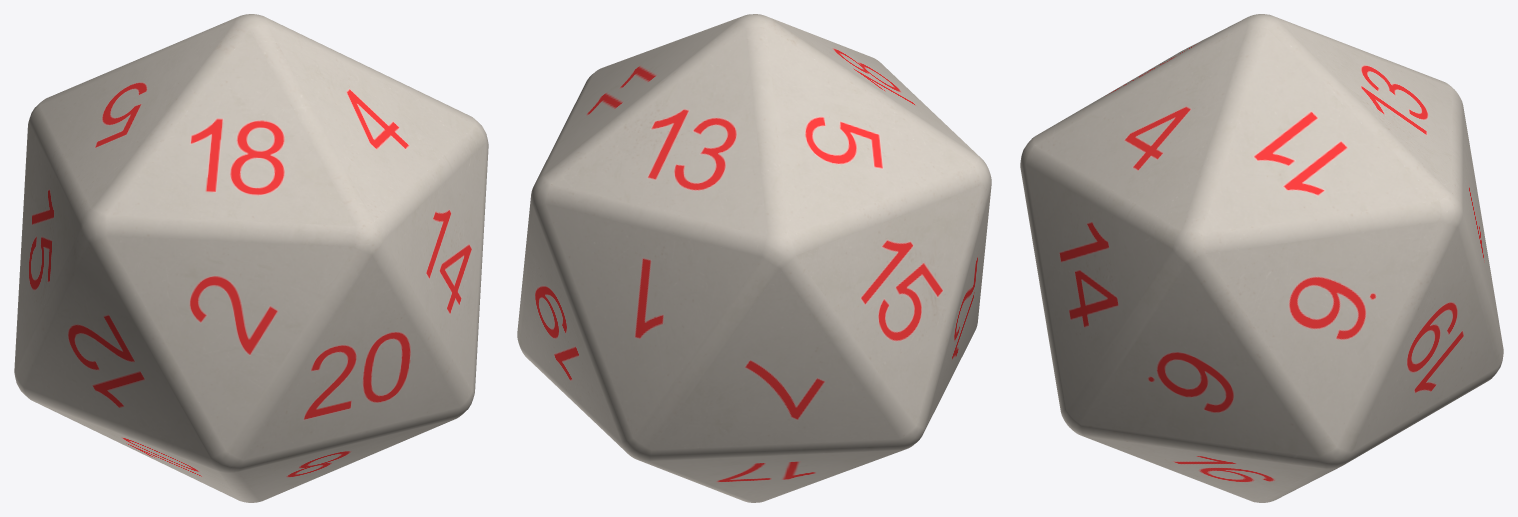
Rendered from d20-metal.gltf.
3 renders of one model, left to right at view 1: azimuth 30°, elevation 25°; view 2: azimuth 150°, elevation 25°; view 3: azimuth 270°, elevation 25°, orthographic.
Parts seen in each view (by area): view 1: d20_metal; view 2: d20_metal; view 3: d20_metal.
Boxes of the visible parts, x1,y1,x2,y2 form: d20_metal: [14, 14, 488, 502]; d20_metal: [517, 14, 991, 502]; d20_metal: [1020, 14, 1503, 502].
Bounding box in the file's own units: 1.85 × 2.13 × 1.93.
1 material, 1 textured.
